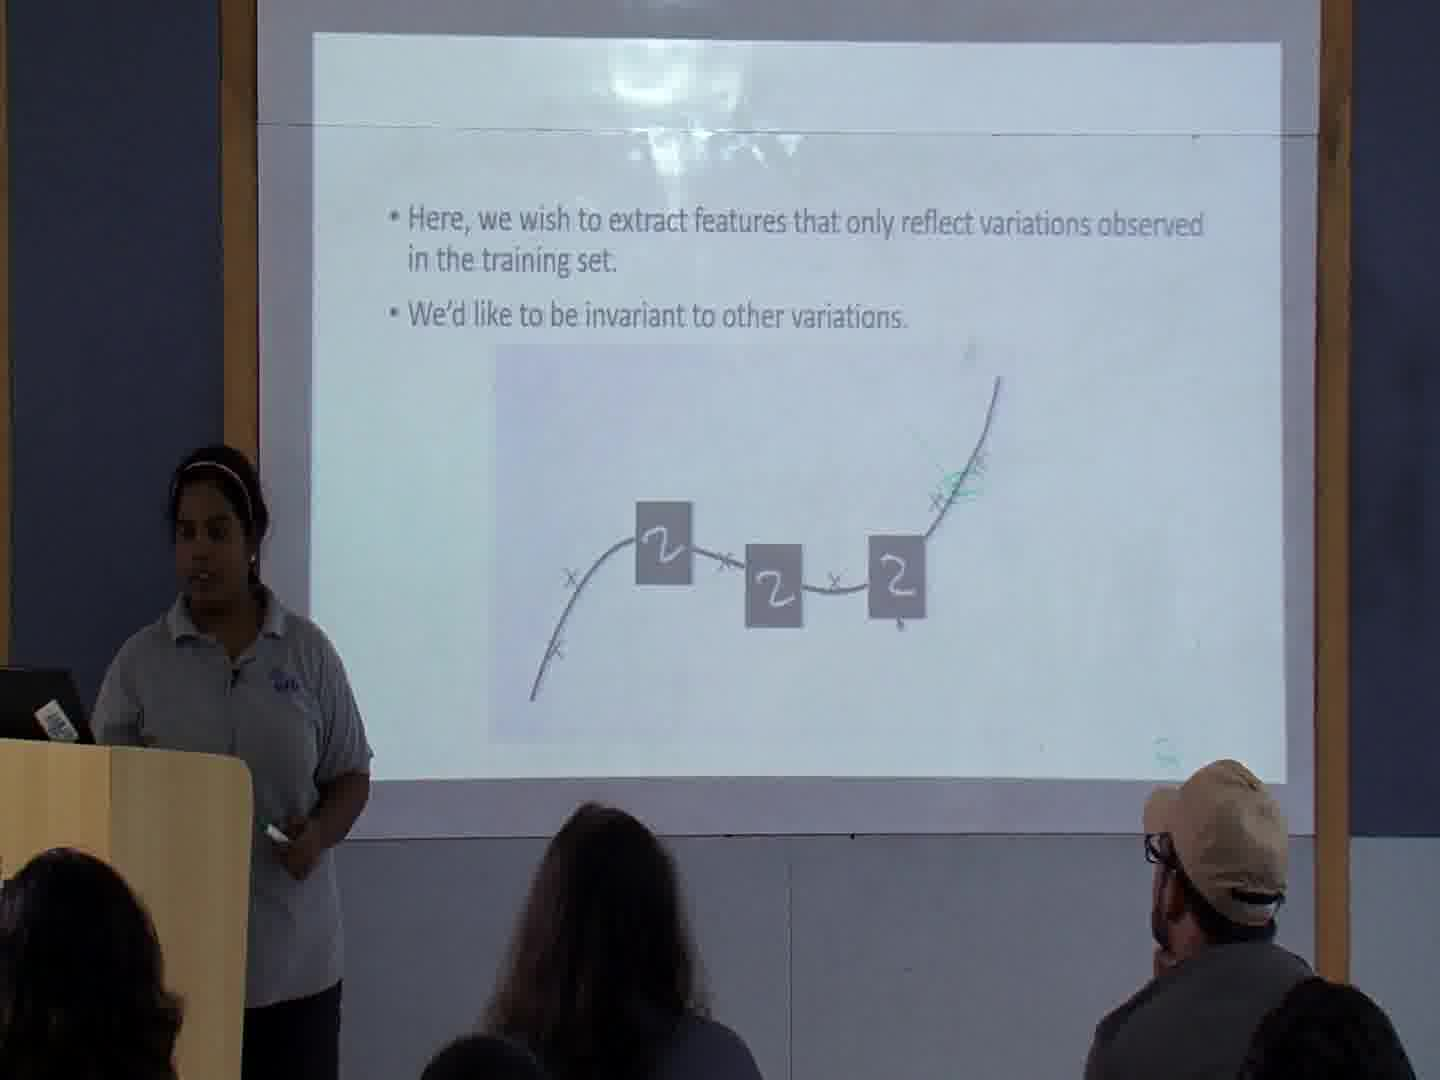fig: (493, 348, 1008, 740)
